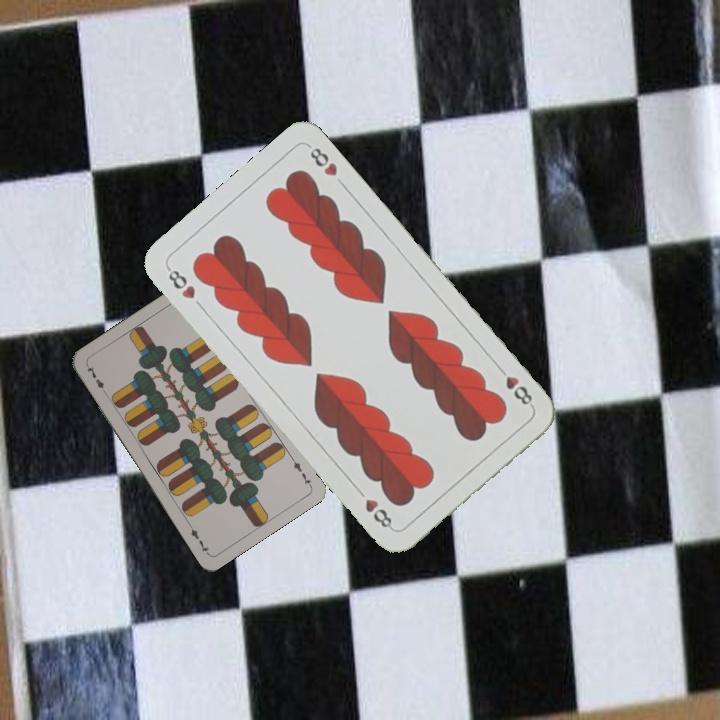E7: (83, 361, 110, 397), (287, 453, 314, 489)
H8: (493, 361, 536, 410), (162, 262, 198, 302)
